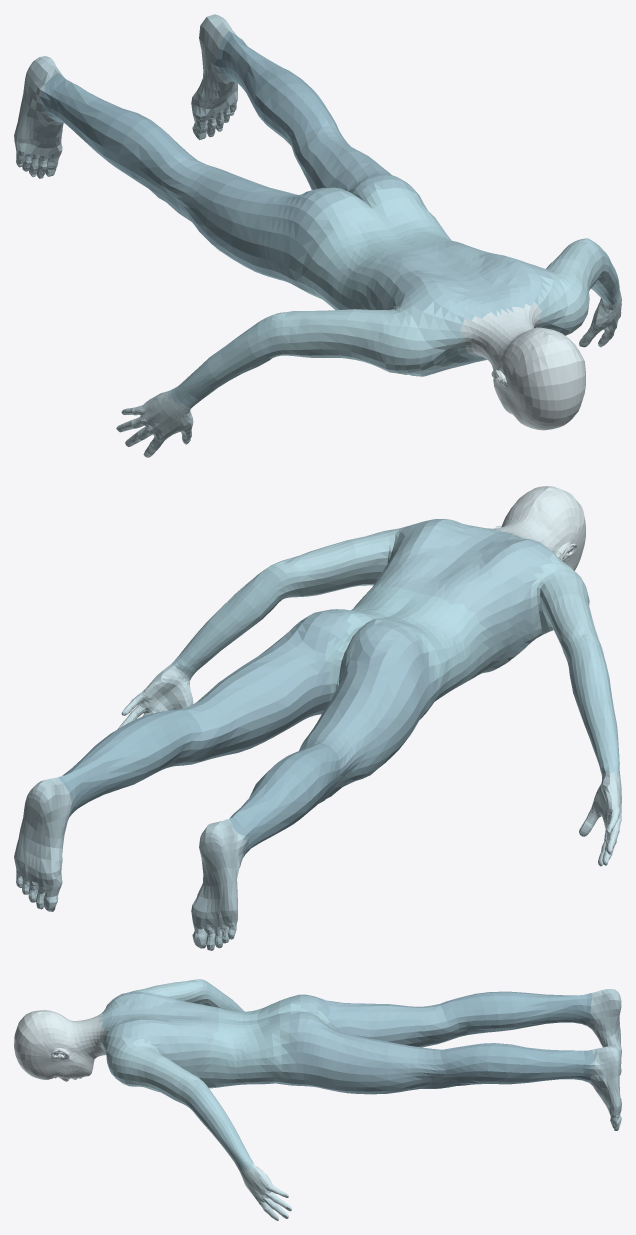
File: crew_C7.glb
The picture shows the model from 3 angles, top to bottom: view 1: azimuth 30°, elevation 25°; view 2: azimuth 150°, elevation 25°; view 3: azimuth 270°, elevation 25°; orthographic projection. The views are drawn at different scales.
Parts seen in each view (by area): view 1: right_thigh, abdomen, chest, right_upper_arm, head, right_lower_leg, left_lower_leg, left_upper_arm, right_foot, right_forearm, left_thigh, left_foot (+5 smaller); view 2: abdomen, left_thigh, right_thigh, chest, left_lower_leg, right_lower_leg, left_foot, left_upper_arm, right_foot, left_forearm, right_forearm, right_upper_arm (+5 smaller); view 3: left_thigh, abdomen, chest, left_lower_leg, right_lower_leg, right_thigh, head, left_upper_arm, left_forearm, left_foot, right_foot, left_hand (+4 smaller).
Part boxes in pixels (left/top/right/bottom): right_thigh: left=154, top=157, right=310, bottom=291; abdomen: left=361, top=241, right=553, bottom=376; chest: left=295, top=183, right=459, bottom=310; right_upper_arm: left=271, top=301, right=473, bottom=375; head: left=490, top=327, right=585, bottom=430; right_lower_leg: left=39, top=72, right=197, bottom=196; left_lower_leg: left=214, top=31, right=335, bottom=145; left_upper_arm: left=536, top=239, right=603, bottom=335; right_foot: left=14, top=56, right=63, bottom=178; right_forearm: left=168, top=313, right=284, bottom=407; left_thigh: left=290, top=120, right=395, bottom=191; left_foot: left=191, top=14, right=244, bottom=139; abdomen: left=372, top=519, right=553, bottom=676; left_thigh: left=174, top=617, right=330, bottom=766; right_thigh: left=299, top=639, right=438, bottom=800; chest: left=325, top=583, right=489, bottom=706; left_lower_leg: left=58, top=709, right=202, bottom=816; right_lower_leg: left=229, top=743, right=339, bottom=857; left_foot: left=14, top=777, right=71, bottom=911; left_upper_arm: left=277, top=525, right=410, bottom=597; right_foot: left=191, top=819, right=246, bottom=950; left_forearm: left=171, top=562, right=286, bottom=679; right_forearm: left=567, top=637, right=620, bottom=777; right_upper_arm: left=531, top=546, right=601, bottom=660; left_thigh: left=281, top=1018, right=458, bottom=1094; abdomen: left=98, top=992, right=218, bottom=1092; chest: left=204, top=997, right=331, bottom=1087; left_lower_leg: left=441, top=1043, right=594, bottom=1085; right_lower_leg: left=440, top=991, right=594, bottom=1036; right_thigh: left=308, top=995, right=466, bottom=1047; head: left=14, top=1010, right=96, bottom=1081; left_upper_arm: left=102, top=1029, right=201, bottom=1105; left_forearm: left=185, top=1080, right=254, bottom=1170; left_foot: left=588, top=1045, right=621, bottom=1130; right_foot: left=586, top=989, right=621, bottom=1074; left_hand: left=239, top=1165, right=291, bottom=1220.
Size of the model in its own units: 1.19 by 0.4692 by 1.86.
